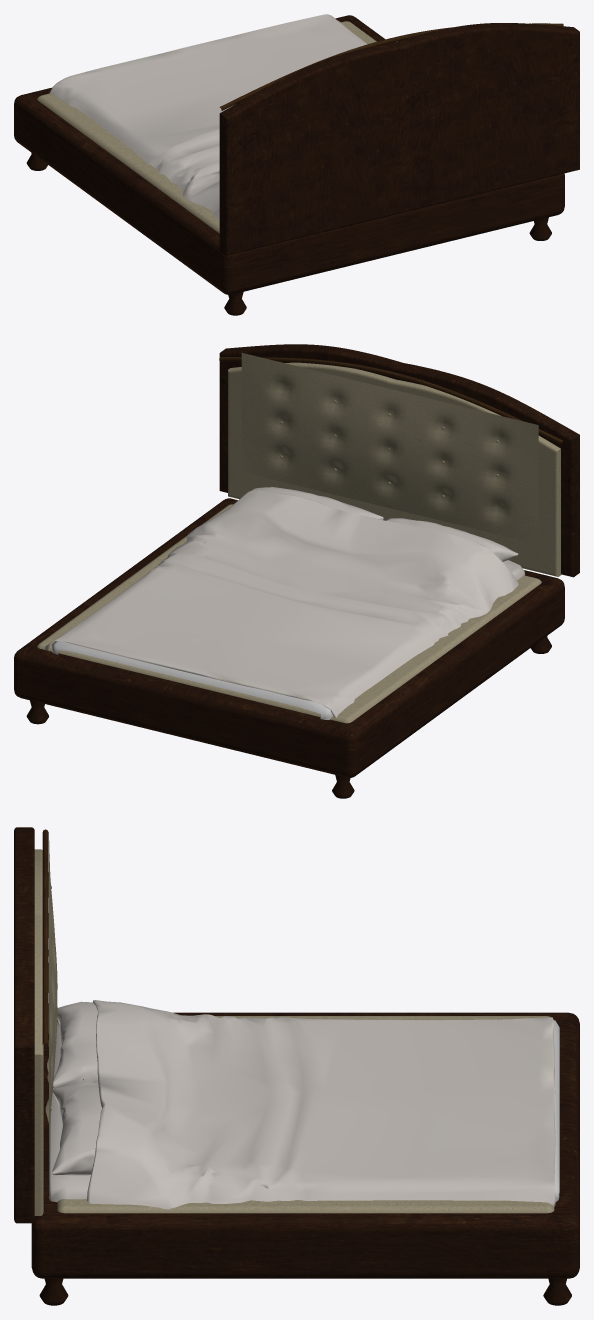
The model's file is luxury-wing-bed.glb.
The picture shows the model from 3 angles, top to bottom: view 1: azimuth 30°, elevation 25°; view 2: azimuth 150°, elevation 25°; view 3: azimuth 270°, elevation 25°; orthographic projection. The views are drawn at different scales.
Parts seen in each view (by area): view 1: walnut_0, heritage_linen_2, linen_1, oak_25; view 2: heritage_linen_2, linen_1, walnut_0, oak_25; view 3: heritage_linen_2, walnut_0, linen_1, oak_25.
Boxes of the visible parts, x1,y1,x2,y2 form: walnut_0: (14, 15, 579, 315); heritage_linen_2: (50, 14, 367, 219); linen_1: (37, 21, 376, 233); oak_25: (219, 23, 563, 110); heritage_linen_2: (45, 487, 524, 719); linen_1: (37, 353, 561, 723); walnut_0: (14, 344, 579, 798); oak_25: (219, 357, 563, 444); heritage_linen_2: (49, 1000, 559, 1209); walnut_0: (14, 827, 579, 1305); linen_1: (34, 841, 554, 1215); oak_25: (42, 829, 48, 1044).
Size of the model in its own units: 2.11 by 1.37 by 2.29.
4 materials, 4 textured.
